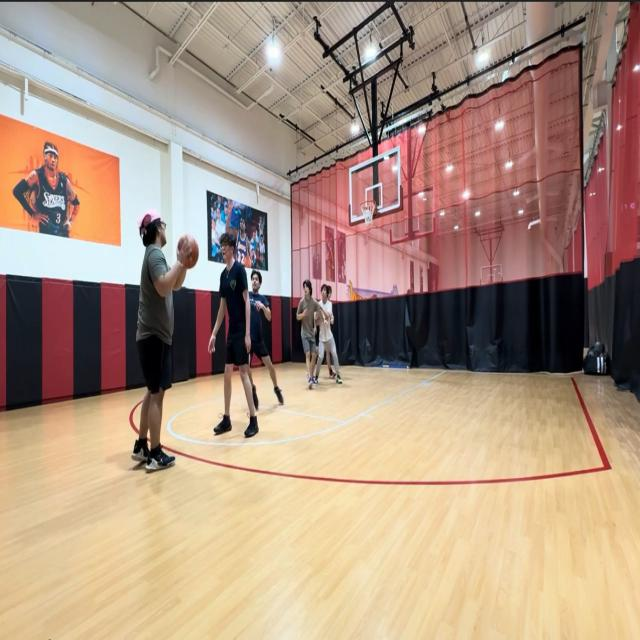Basketball: (177, 235, 199, 268)
Basketball Rim: (360, 200, 375, 225)
